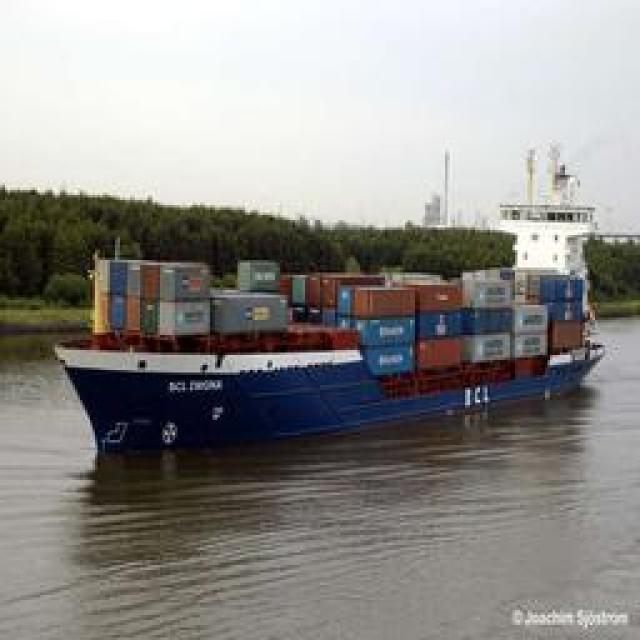CIV_Ship: (55, 254, 603, 456)
